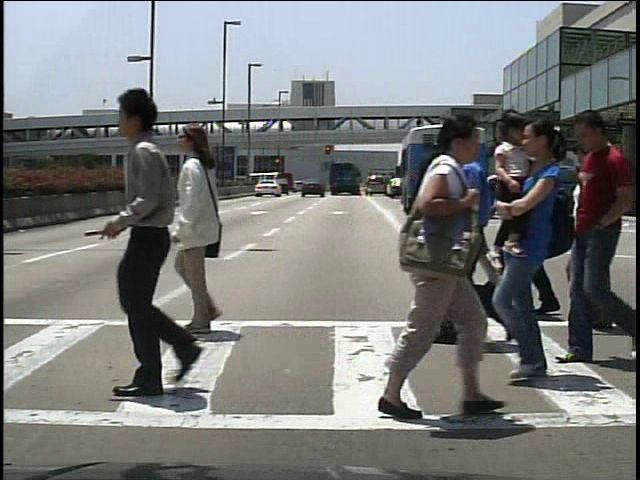person: (88, 79, 219, 403), (365, 112, 495, 425), (149, 119, 270, 343), (563, 107, 635, 373), (477, 130, 550, 322), (451, 116, 496, 342), (575, 142, 624, 344), (582, 168, 602, 218), (489, 162, 507, 215)
